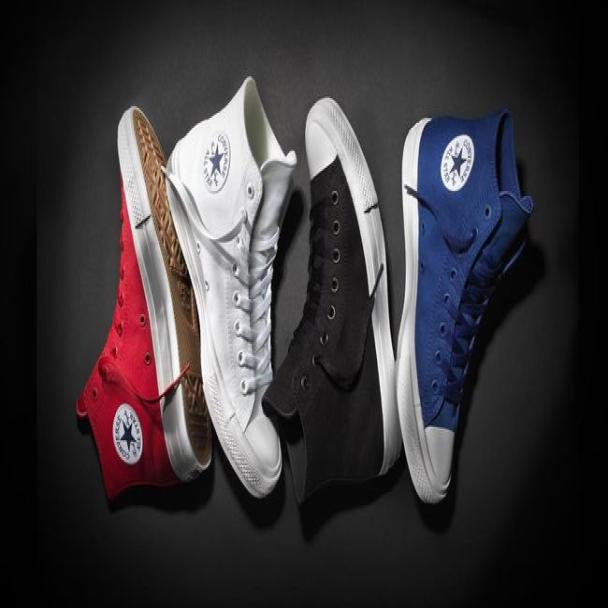Sepatu: (61, 92, 220, 530), (158, 64, 297, 517), (394, 106, 530, 505), (278, 90, 401, 510)
